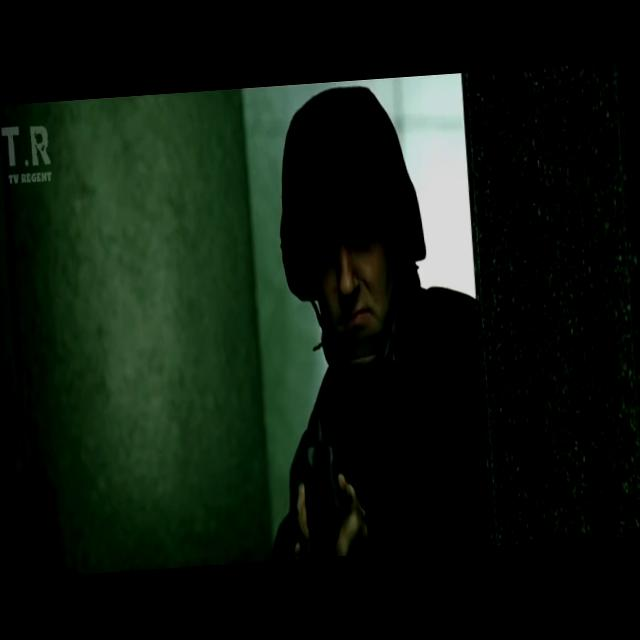long weapon: (278, 408, 358, 548)
